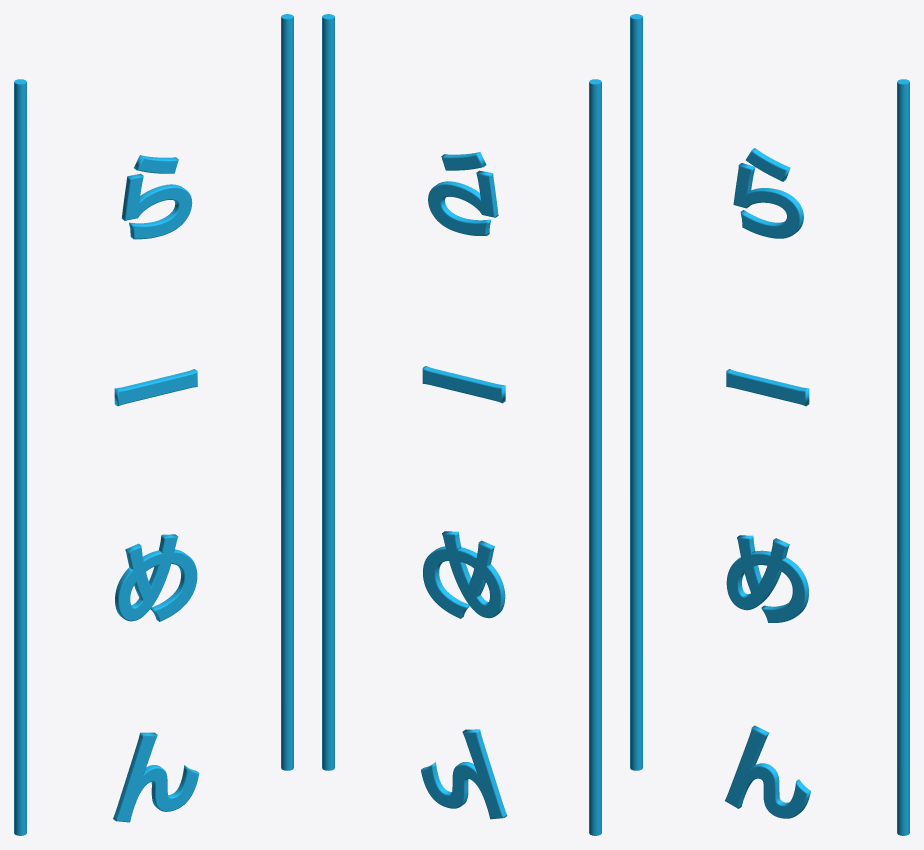
Rendered from tokyo-blade-right-1.glb.
The picture shows the model from 3 angles, left to right: view 1: azimuth 30°, elevation 25°; view 2: azimuth 150°, elevation 25°; view 3: azimuth 330°, elevation 25°; orthographic projection.
Visible parts, largest first — view 1: tokyo-blade-right-1/Neon sign edge.016, tokyo-blade-right-1/Neon sign edge.017, tokyo-blade-right-1/Japanese illuminated lettering.022, tokyo-blade-right-1/Japanese illuminated lettering.020, tokyo-blade-right-1/Japanese illuminated lettering.023, tokyo-blade-right-1/Japanese illuminated lettering.021; view 2: tokyo-blade-right-1/Neon sign edge.016, tokyo-blade-right-1/Neon sign edge.017, tokyo-blade-right-1/Japanese illuminated lettering.022, tokyo-blade-right-1/Japanese illuminated lettering.020, tokyo-blade-right-1/Japanese illuminated lettering.023, tokyo-blade-right-1/Japanese illuminated lettering.021; view 3: tokyo-blade-right-1/Neon sign edge.016, tokyo-blade-right-1/Neon sign edge.017, tokyo-blade-right-1/Japanese illuminated lettering.022, tokyo-blade-right-1/Japanese illuminated lettering.020, tokyo-blade-right-1/Japanese illuminated lettering.023, tokyo-blade-right-1/Japanese illuminated lettering.021.
Part boxes in pixels (x1,y1,x2,y2): tokyo-blade-right-1/Neon sign edge.016: [14, 79, 26, 835]; tokyo-blade-right-1/Neon sign edge.017: [281, 14, 293, 770]; tokyo-blade-right-1/Japanese illuminated lettering.022: [115, 534, 197, 621]; tokyo-blade-right-1/Japanese illuminated lettering.020: [121, 155, 192, 239]; tokyo-blade-right-1/Japanese illuminated lettering.023: [113, 732, 199, 822]; tokyo-blade-right-1/Japanese illuminated lettering.021: [114, 369, 197, 406]; tokyo-blade-right-1/Neon sign edge.016: [589, 79, 601, 835]; tokyo-blade-right-1/Neon sign edge.017: [322, 14, 334, 770]; tokyo-blade-right-1/Japanese illuminated lettering.022: [423, 531, 505, 618]; tokyo-blade-right-1/Japanese illuminated lettering.020: [428, 152, 498, 235]; tokyo-blade-right-1/Japanese illuminated lettering.023: [421, 729, 507, 819]; tokyo-blade-right-1/Japanese illuminated lettering.021: [422, 366, 505, 403]; tokyo-blade-right-1/Neon sign edge.016: [630, 14, 642, 770]; tokyo-blade-right-1/Neon sign edge.017: [897, 79, 909, 835]; tokyo-blade-right-1/Japanese illuminated lettering.022: [726, 535, 808, 622]; tokyo-blade-right-1/Japanese illuminated lettering.020: [733, 148, 803, 238]; tokyo-blade-right-1/Japanese illuminated lettering.023: [725, 725, 810, 818]; tokyo-blade-right-1/Japanese illuminated lettering.021: [726, 369, 809, 406].
Bounding box in the file's own units: 0.604 × 1.59 × 0.0275.
